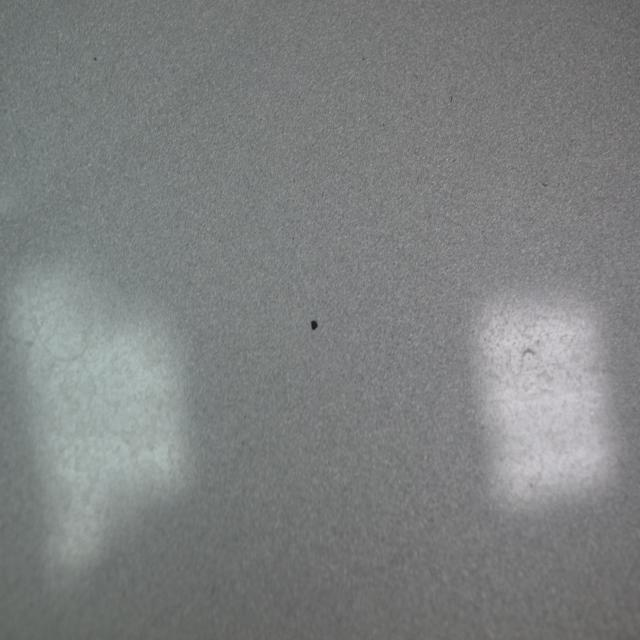dirt: (307, 316, 323, 336)
water marks: (31, 359, 179, 523), (519, 334, 608, 477), (9, 273, 102, 369), (482, 321, 549, 410)
